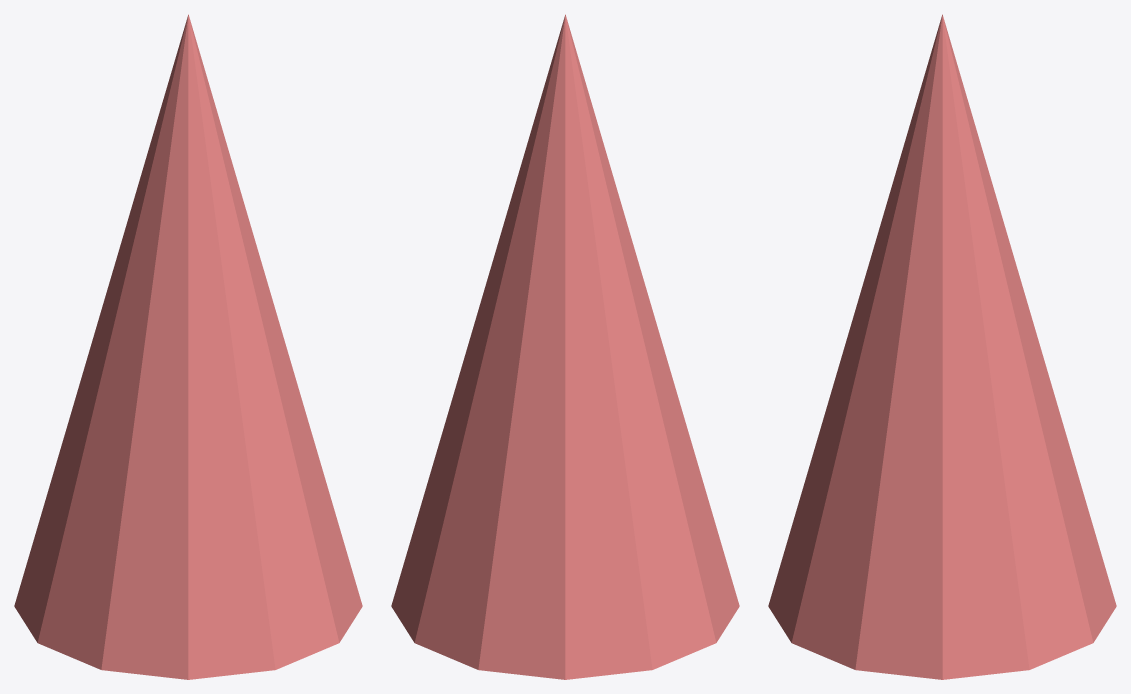
Rendered from rocket.glb.
The picture shows the model from 3 angles, left to right: view 1: azimuth 30°, elevation 25°; view 2: azimuth 150°, elevation 25°; view 3: azimuth 270°, elevation 25°; orthographic projection.
Size of the model in its own units: 1.6 by 3 by 1.6.
